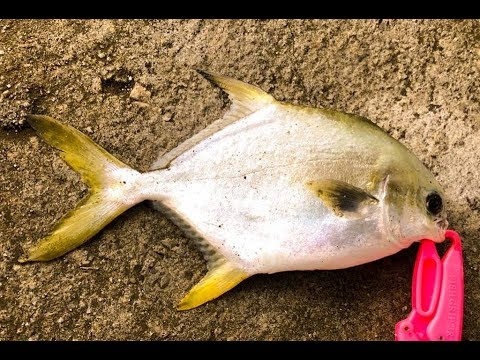Ikan Bawal: (16, 66, 463, 311)
